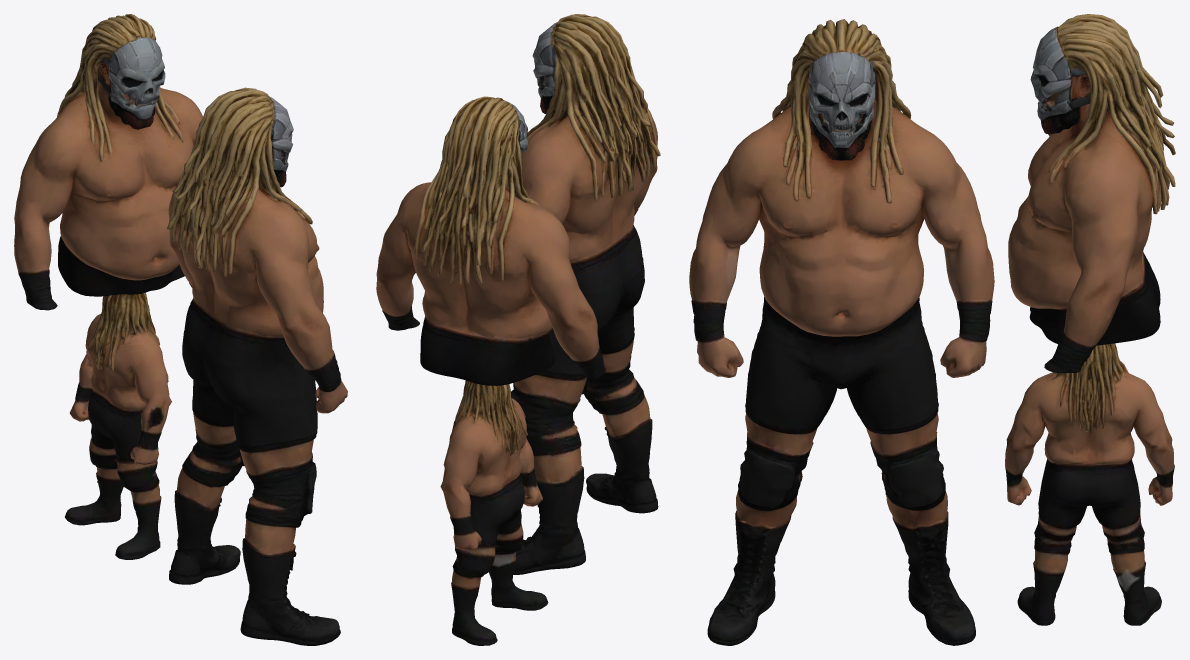
Rendered from BANNON_muscular.glb.
The picture shows the model from 3 angles, left to right: view 1: azimuth 30°, elevation 25°; view 2: azimuth 150°, elevation 25°; view 3: azimuth 270°, elevation 25°; orthographic projection. The views are drawn at different scales.
Visible parts, largest first — view 1: tripo_node_f8bae5d8-72c1-44f4-9b6f-774b74750e5b; view 2: tripo_node_f8bae5d8-72c1-44f4-9b6f-774b74750e5b; view 3: tripo_node_f8bae5d8-72c1-44f4-9b6f-774b74750e5b.
Boxes of the visible parts, x1=… form: tripo_node_f8bae5d8-72c1-44f4-9b6f-774b74750e5b: x1=14, y1=14, x2=347, y2=645; tripo_node_f8bae5d8-72c1-44f4-9b6f-774b74750e5b: x1=376, y1=14, x2=660, y2=645; tripo_node_f8bae5d8-72c1-44f4-9b6f-774b74750e5b: x1=689, y1=14, x2=1175, y2=645.
Bounding box in the file's own units: 0.4355 × 1 × 0.7332.
1 material, 1 textured.
